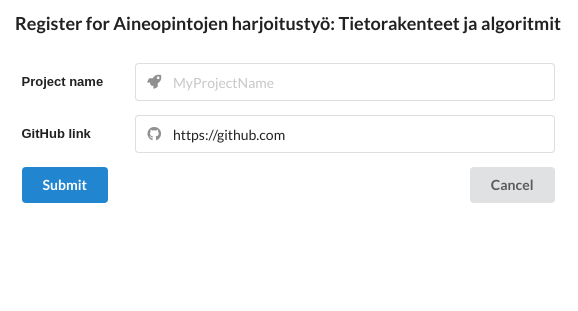
Scenario: <Register /> › RegisterPage Component › renders a warning if the GitHub repository does not exist
Replace the text in the field showing "https://github.com" with "https://github.com/invalid_repo" at (344, 134), box left=134, top=115, right=554, bottom=153
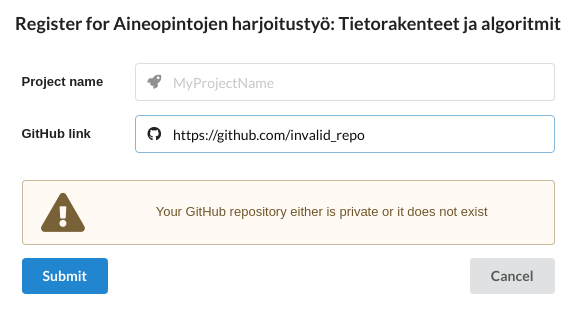
Now the text "Your GitHub repository either is private or it does not exist" is shown, box left=156, top=204, right=488, bottom=219
